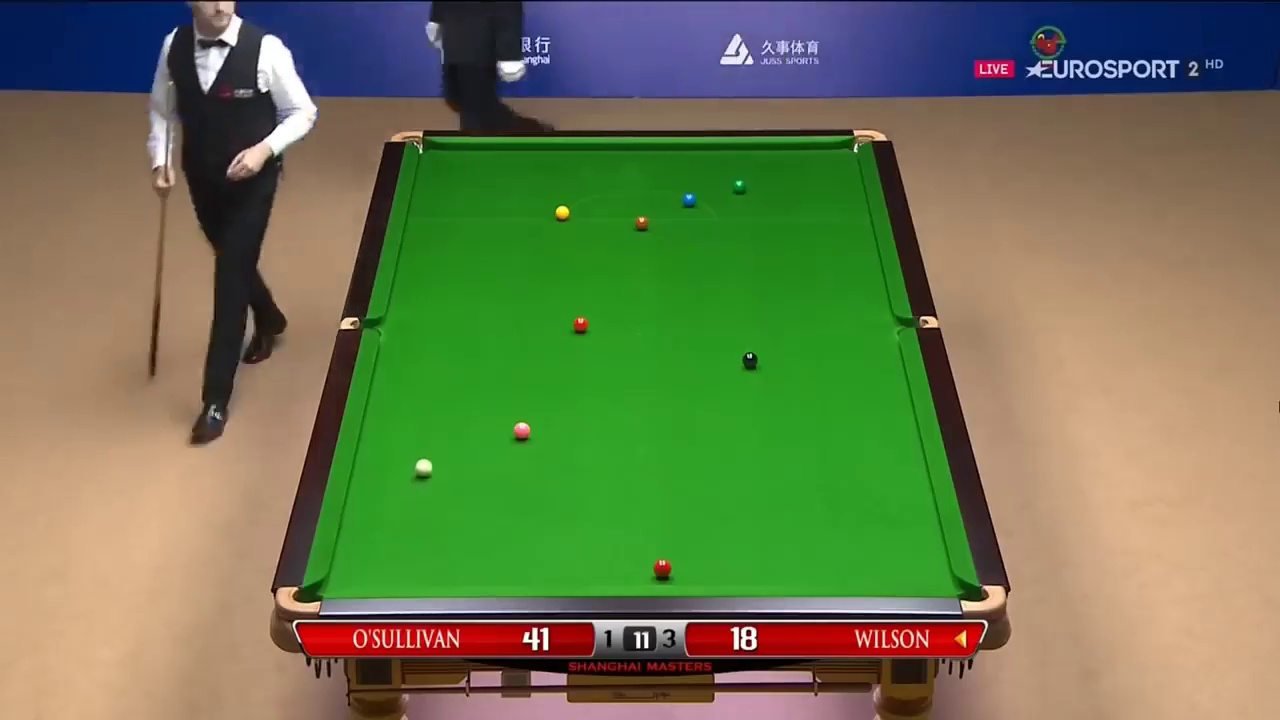ball: (631, 211, 652, 230), (679, 187, 698, 208), (415, 457, 433, 479), (552, 202, 571, 222), (655, 560, 672, 582), (514, 421, 533, 440), (741, 351, 757, 370), (573, 314, 588, 334), (730, 179, 748, 195)
